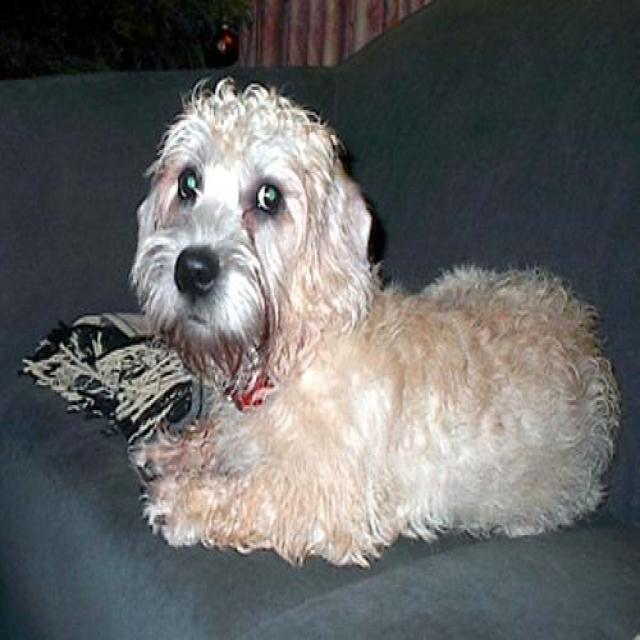dandie_dinmont: (127, 71, 623, 574)
